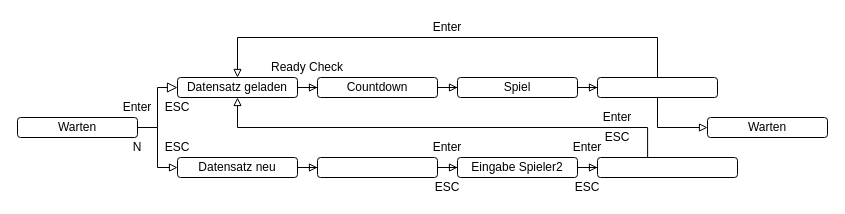
Image size: 845x214. Some labels were removed from this diagram. Each missing label, with the centre of its shape:
"Eingabe Spieler1" belongs at (x=377, y=167).
"Eingabe Spielmodus" belongs at (x=667, y=167).
"Spielende" belongs at (x=657, y=87).
